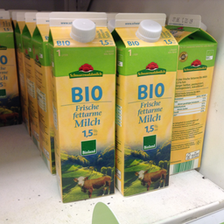milk: (50, 13, 117, 205), (113, 13, 174, 200)
